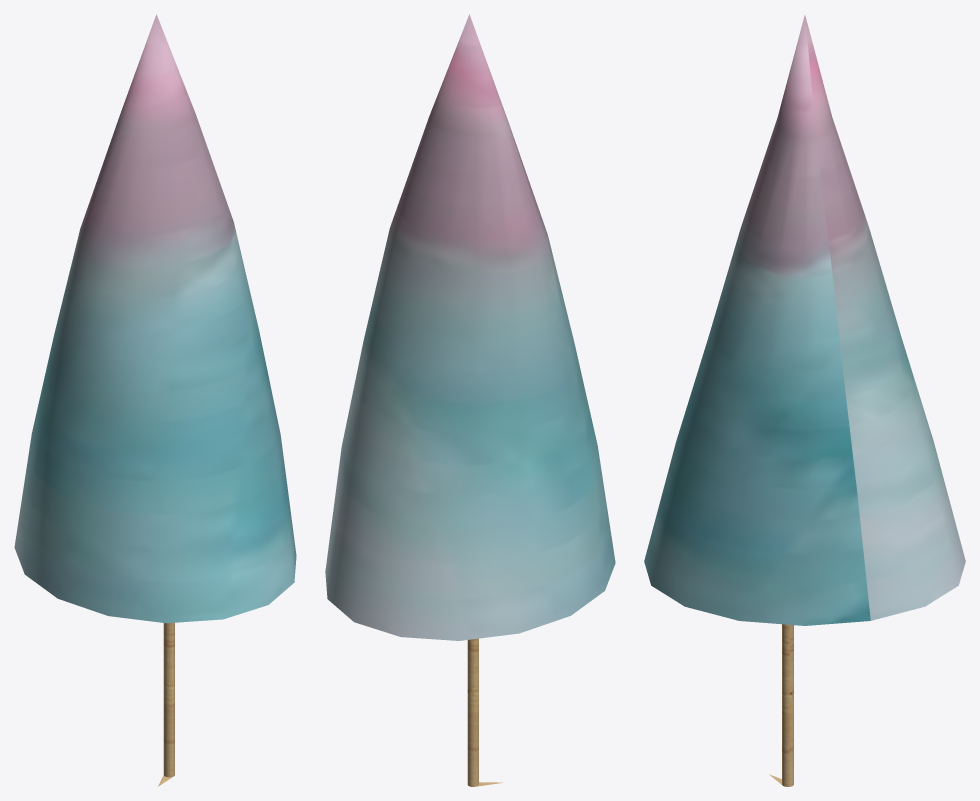
The picture shows the model from 3 angles, left to right: view 1: azimuth 30°, elevation 25°; view 2: azimuth 150°, elevation 25°; view 3: azimuth 270°, elevation 25°; orthographic projection. The views are drawn at different scales.
Parts seen in each view (by area): view 1: Cotton_Candy pCone1, pCylinder1 Cotton_Candy; view 2: Cotton_Candy pCone1, pCylinder1 Cotton_Candy; view 3: Cotton_Candy pCone1, pCylinder1 Cotton_Candy.
Boxes of the visible parts, x1,y1,x2,y2 form: Cotton_Candy pCone1: [14, 14, 296, 623]; pCylinder1 Cotton_Candy: [158, 622, 174, 786]; Cotton_Candy pCone1: [325, 14, 615, 640]; pCylinder1 Cotton_Candy: [467, 638, 502, 786]; Cotton_Candy pCone1: [644, 15, 965, 625]; pCylinder1 Cotton_Candy: [769, 624, 793, 786].
Size of the model in its own units: 1.98 by 6.13 by 2.33.
